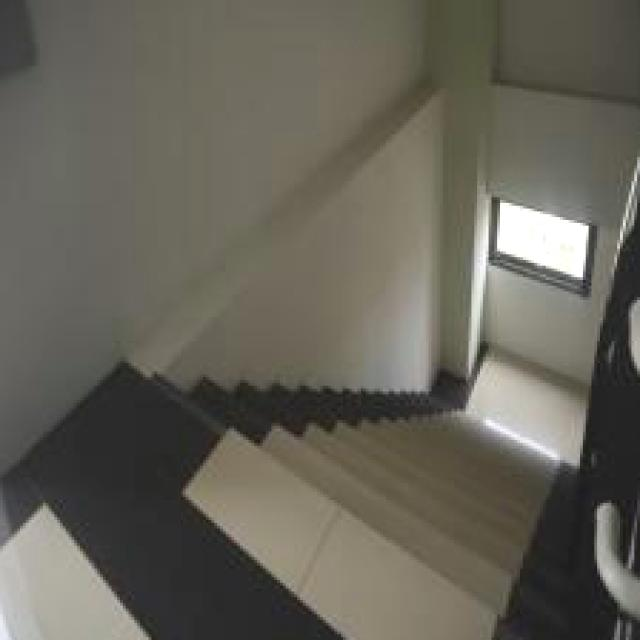downstair: (209, 395, 564, 640)
